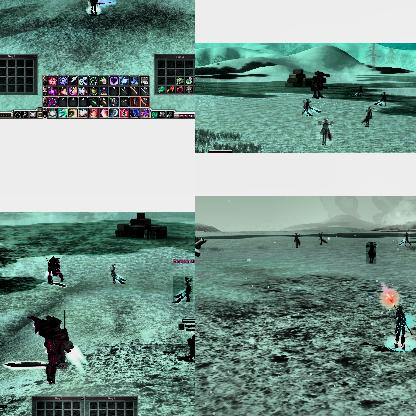caliana: (173, 276, 193, 302), (316, 117, 334, 145), (108, 263, 126, 283), (302, 97, 320, 114), (362, 106, 374, 126), (374, 91, 390, 105), (366, 242, 376, 264), (398, 232, 410, 246), (352, 86, 364, 96), (291, 234, 299, 249), (318, 232, 326, 245)
